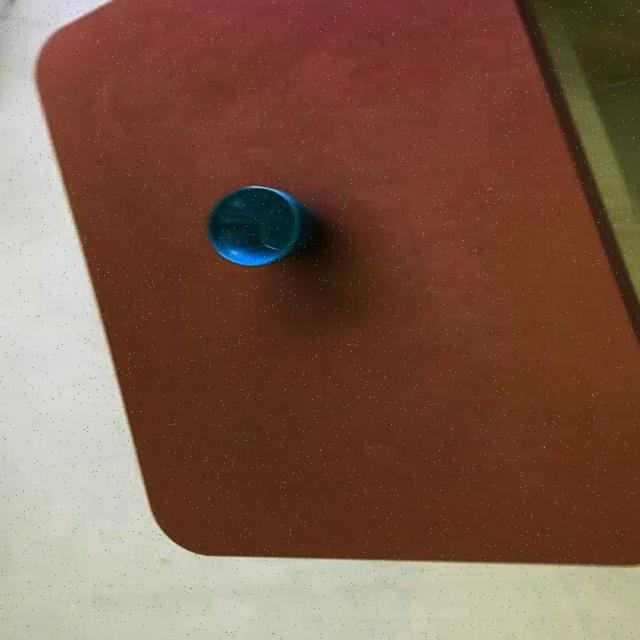Bowl: (34, 0, 640, 565), (208, 184, 321, 266)
